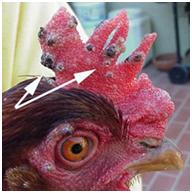AbNormal: (38, 6, 175, 137)
